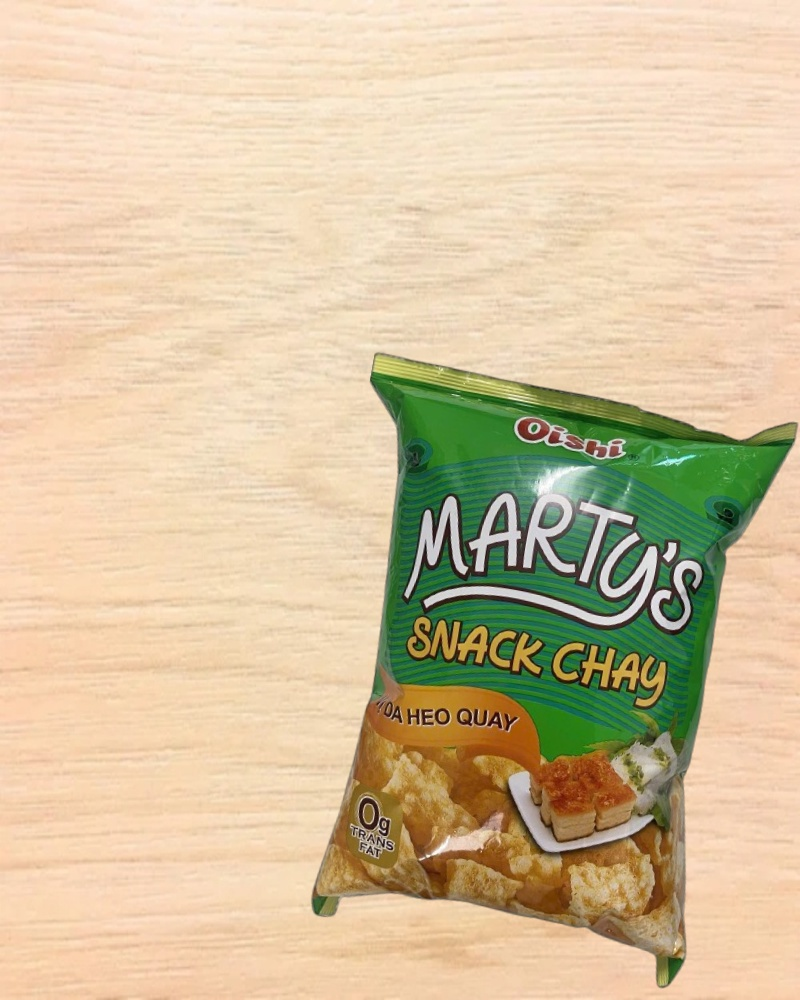Snack chay: (276, 349, 799, 995)
